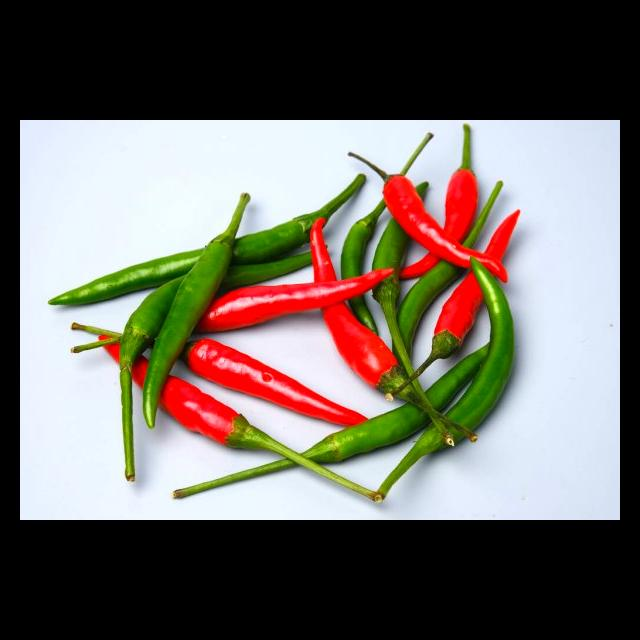chili_pepper: (143, 193, 250, 428), (349, 152, 508, 282), (182, 339, 366, 426), (197, 269, 394, 332), (232, 174, 366, 264), (447, 260, 515, 430), (48, 248, 203, 305), (303, 404, 430, 464), (173, 460, 295, 499), (379, 427, 446, 498), (428, 345, 488, 410)
